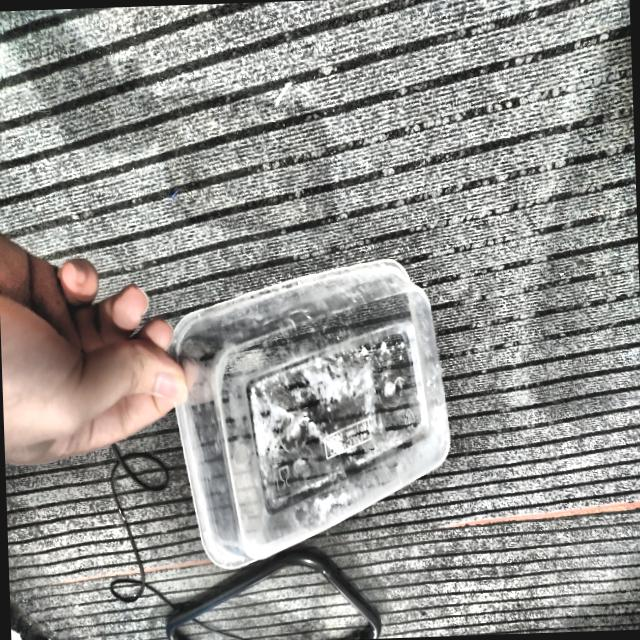plastic container: (171, 259, 449, 568)
